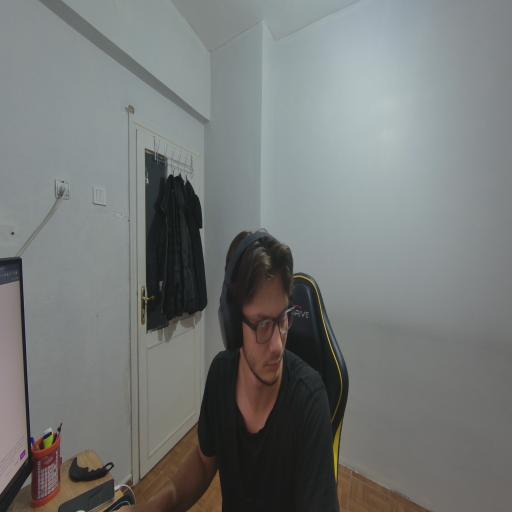cuma-face-v2: (214, 222, 295, 378), (216, 230, 297, 380)
